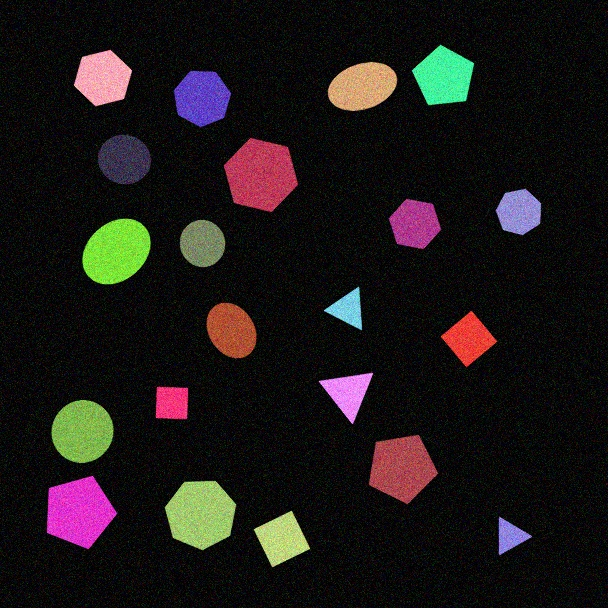Circulo: (51, 399, 114, 464), (97, 134, 152, 185), (179, 219, 226, 268)
Elipse: (82, 218, 151, 285), (327, 61, 398, 112), (206, 302, 257, 359)
Heptagono: (164, 480, 237, 551), (173, 70, 232, 128), (495, 188, 542, 236)
Hexagono: (223, 137, 299, 213), (73, 49, 133, 107), (388, 198, 442, 250)
Pentagono: (46, 475, 118, 550), (368, 434, 439, 505), (411, 44, 475, 106)
Quadrado: (440, 310, 498, 368), (253, 510, 311, 568), (155, 386, 189, 420)
Triangulo: (318, 372, 374, 425), (324, 286, 363, 331), (498, 516, 533, 556)
